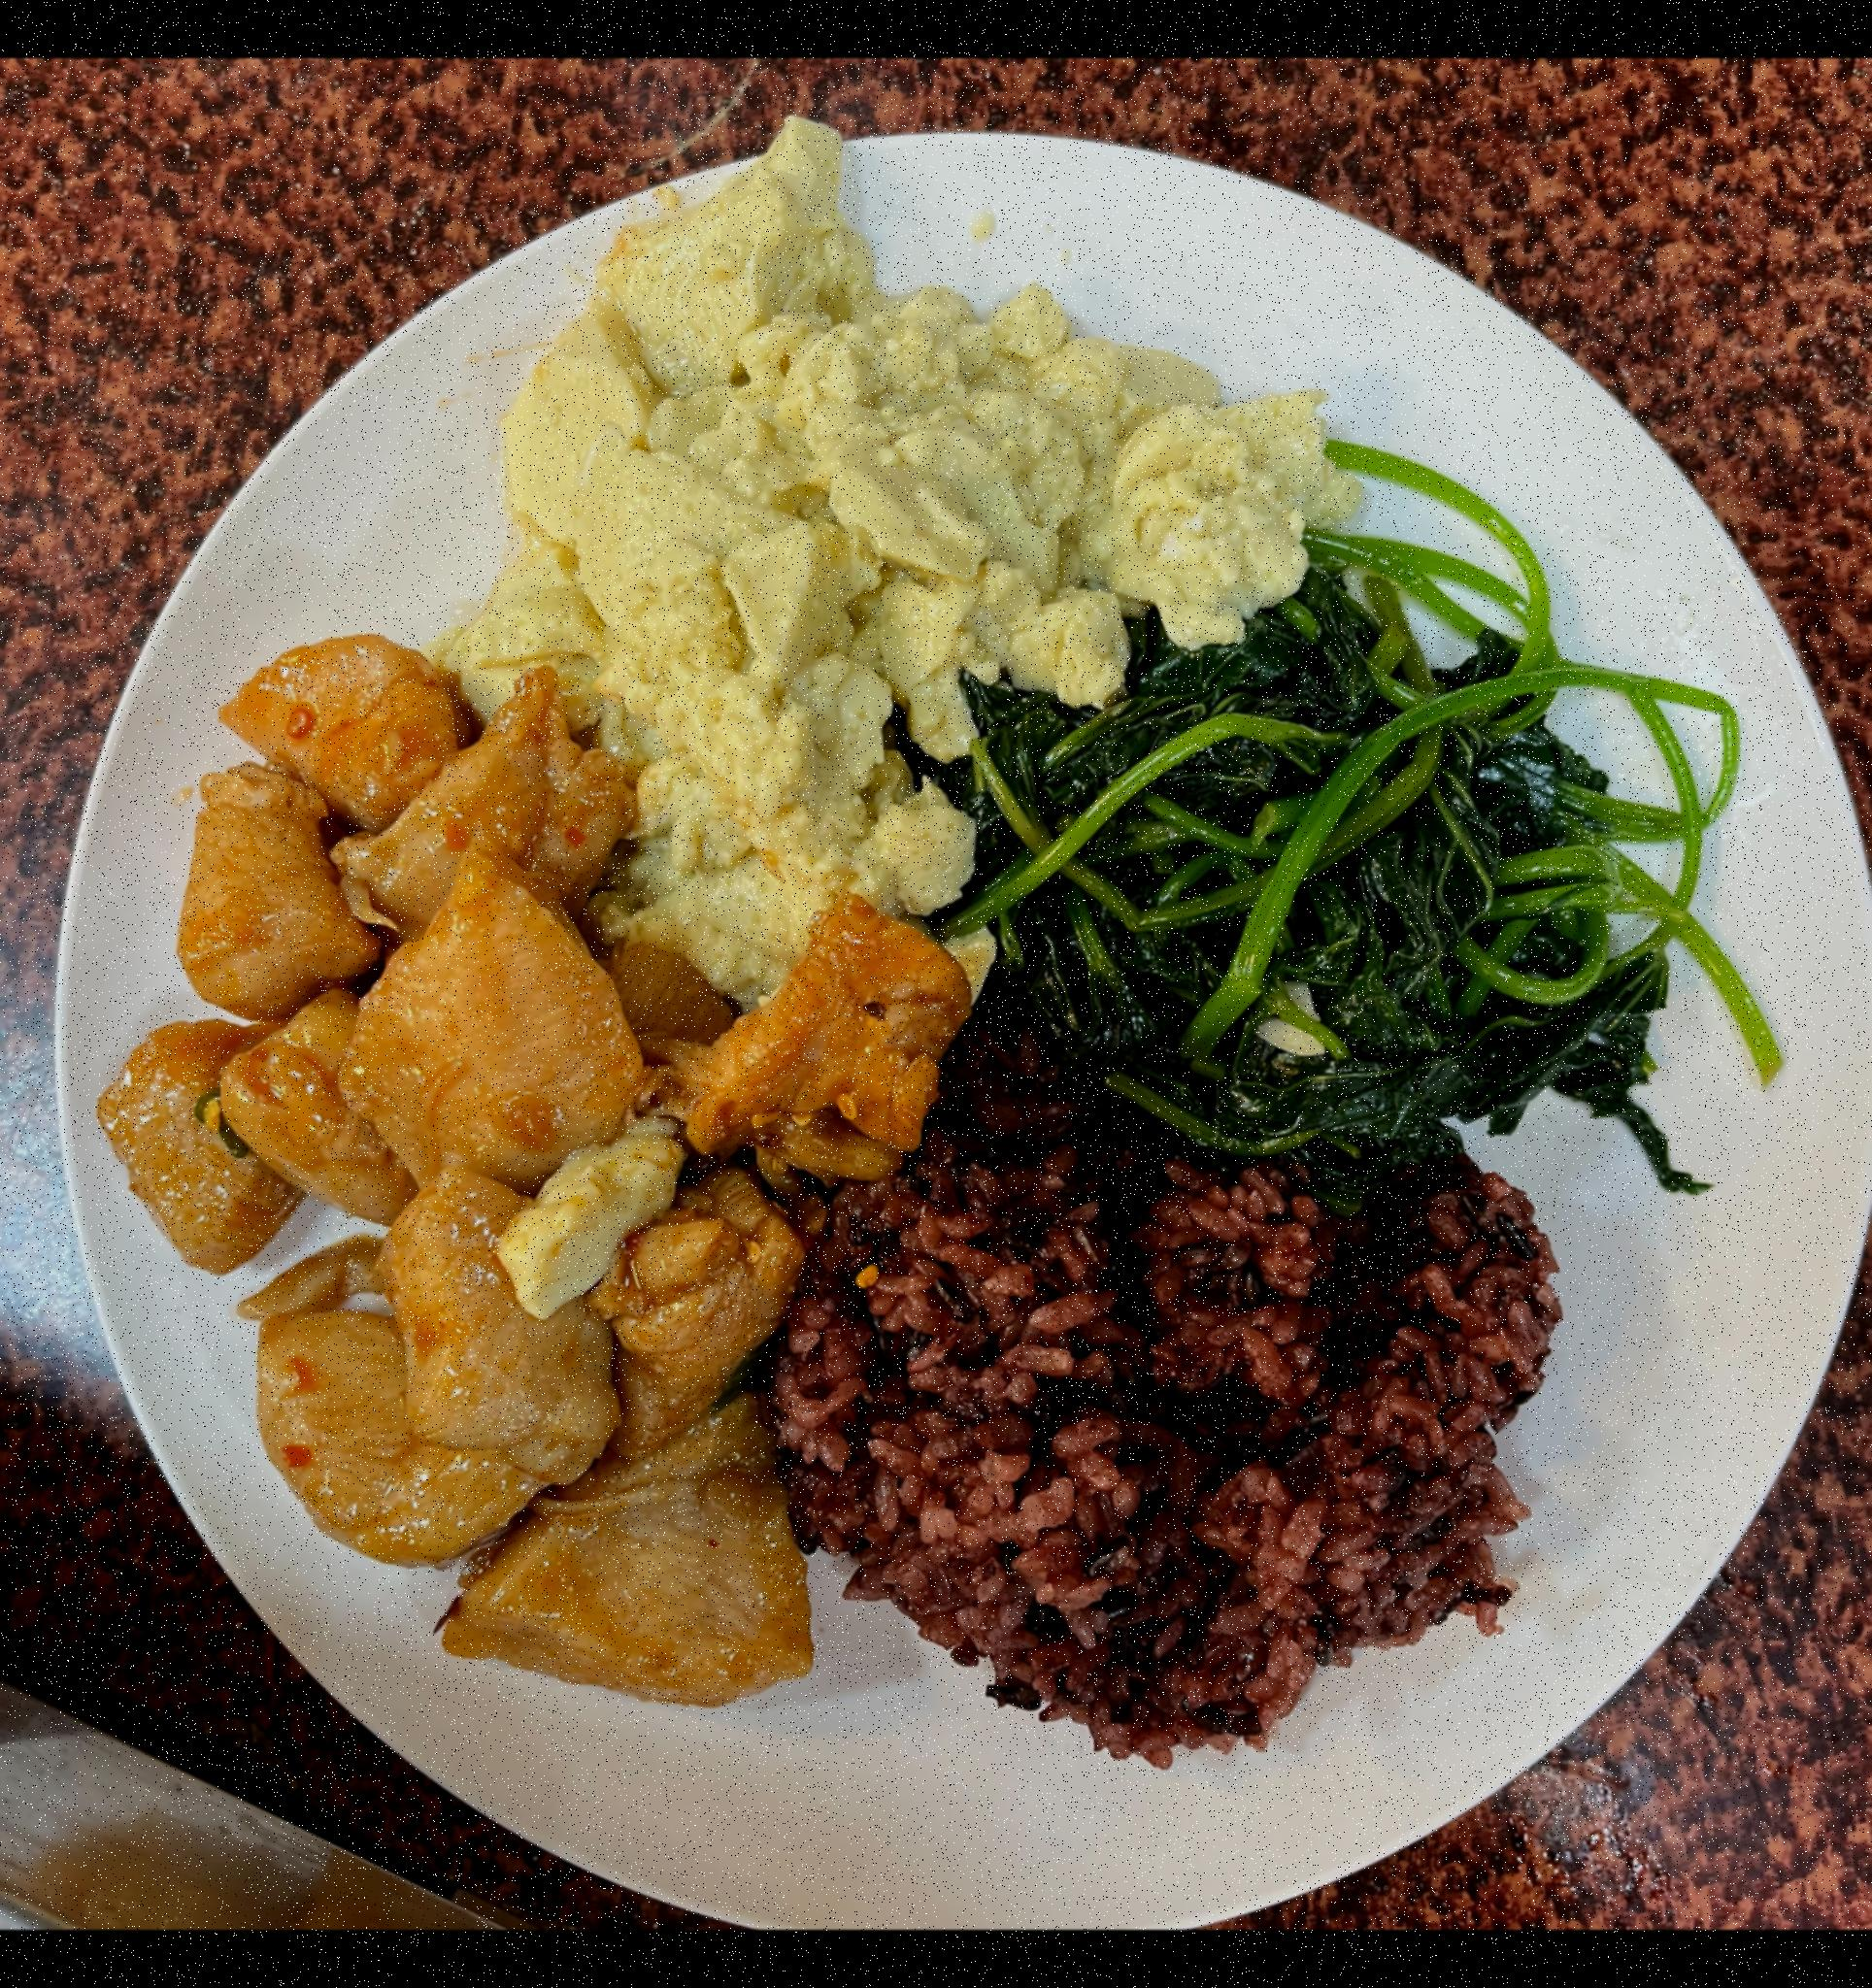plate: (21, 128, 1872, 1930)
purple rice: (799, 1020, 1576, 1766)
side dish: (501, 174, 1341, 976), (962, 545, 1731, 1149)
spicy chicken: (127, 639, 896, 1724)
